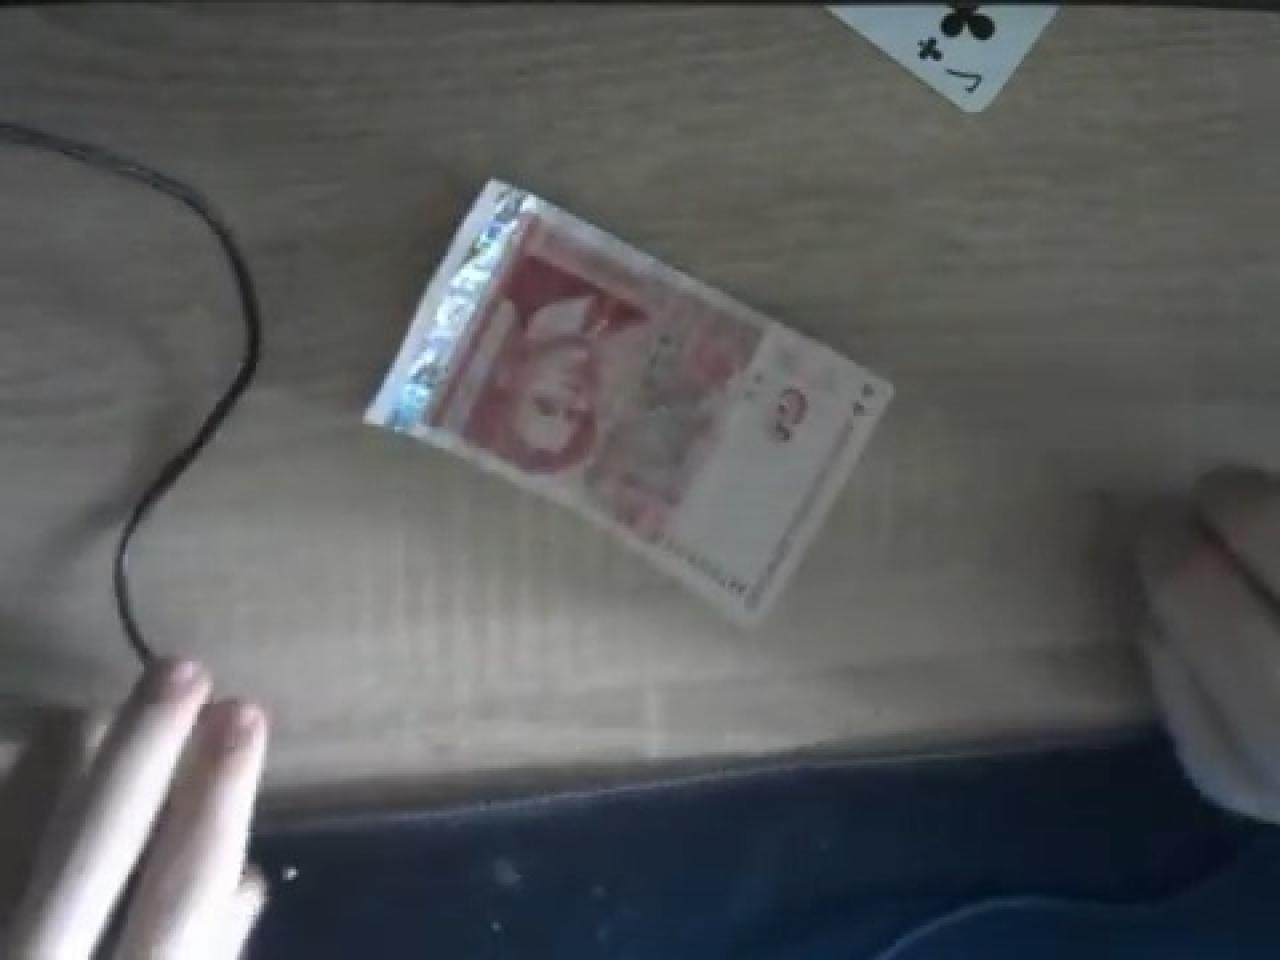5leva: (358, 173, 896, 621)
